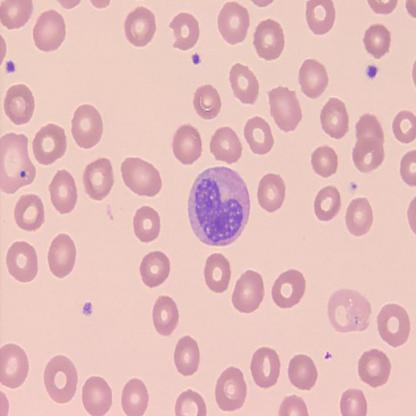Metamyelocyte: (185, 163, 252, 246)
